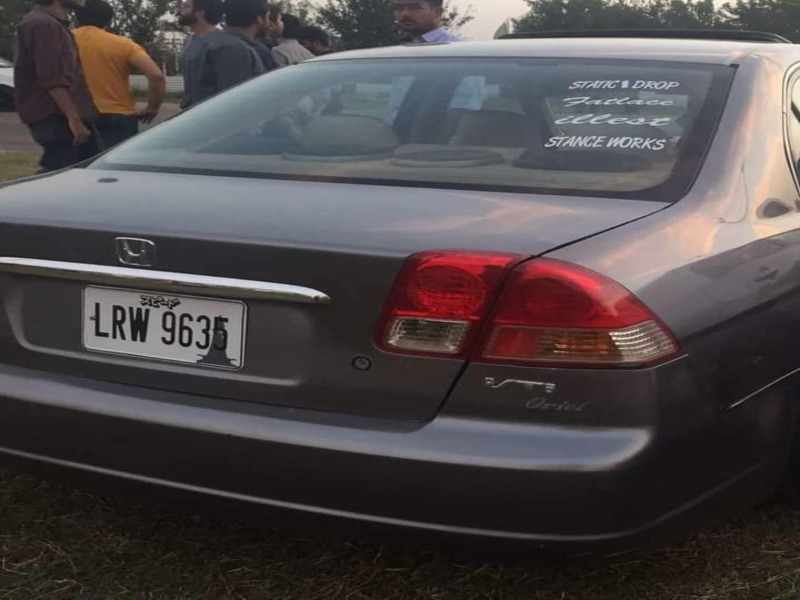License Plate: (75, 278, 250, 372)
